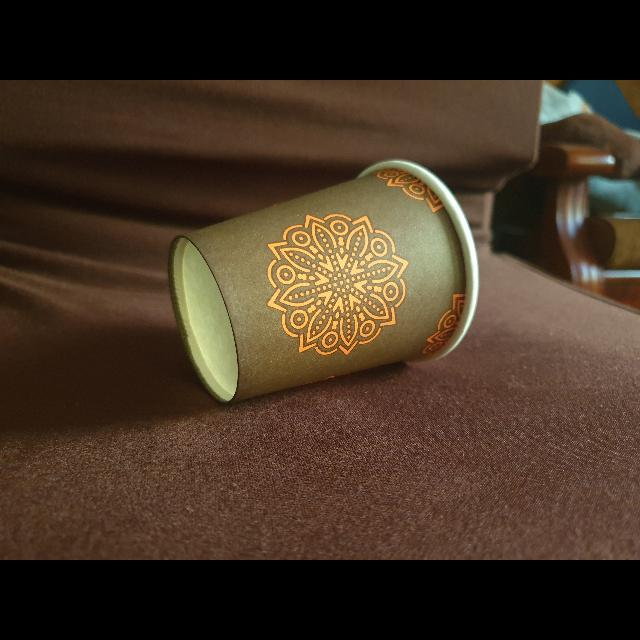trash: (167, 158, 485, 410)
